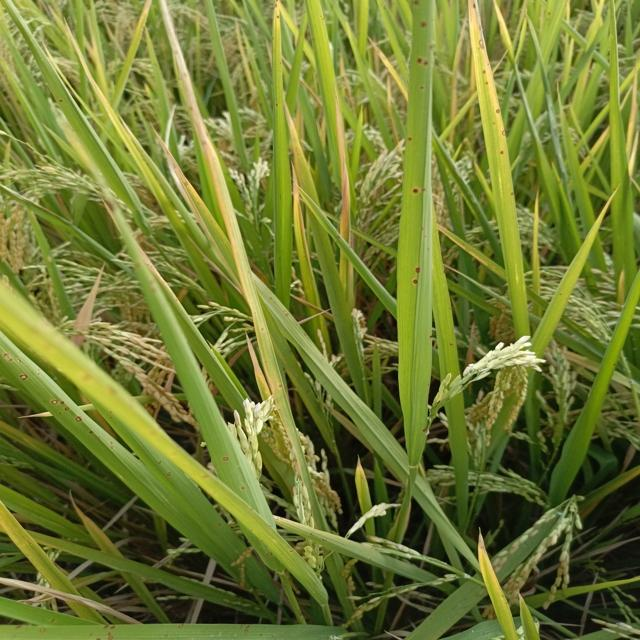Brown spot: (330, 81, 360, 247), (66, 486, 137, 556), (473, 522, 515, 623)
insects: (399, 0, 438, 75), (48, 398, 98, 436), (492, 106, 512, 159), (3, 349, 29, 384), (401, 265, 439, 285), (267, 294, 295, 320), (482, 60, 498, 88), (409, 182, 432, 200), (158, 460, 175, 478), (218, 450, 233, 466), (237, 482, 252, 496), (414, 82, 429, 93), (403, 133, 416, 144), (276, 382, 286, 394), (108, 438, 117, 451), (472, 2, 480, 15)
